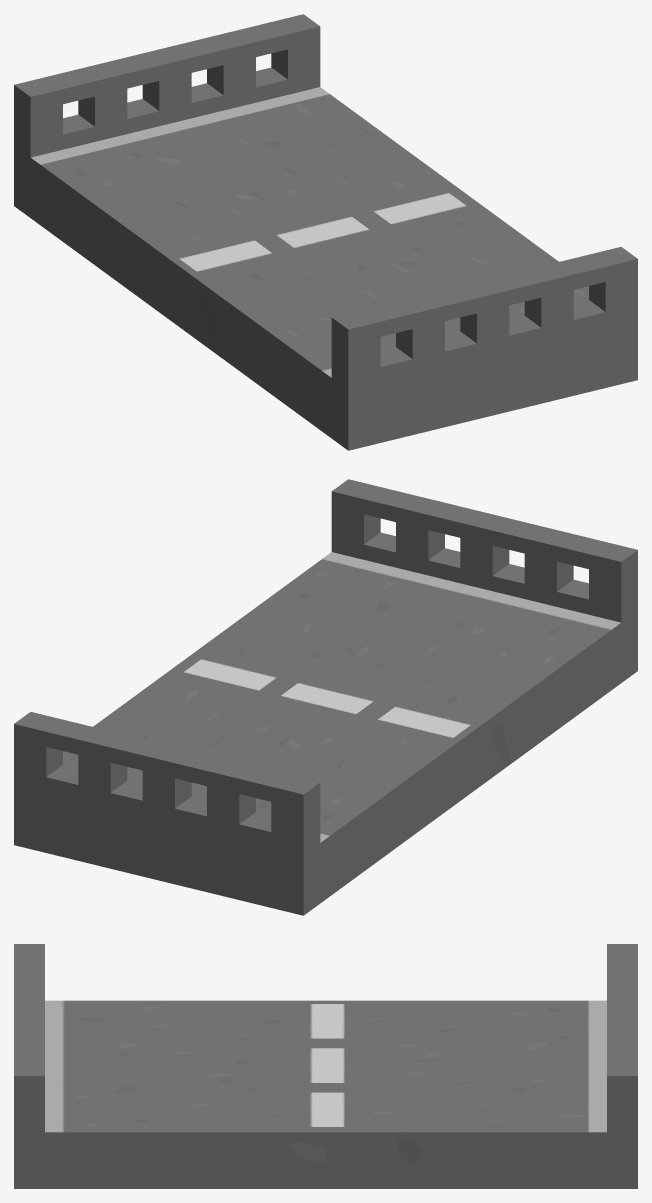
3 views of the same model, one above another, from view 1: azimuth 30°, elevation 25°; view 2: azimuth 150°, elevation 25°; view 3: azimuth 270°, elevation 25° (orthographic). The views are drawn at different scales.
Visible parts, largest first — view 1: road_seg; view 2: road_seg; view 3: road_seg.
Boxes of the visible parts, left/top/right/bottom form: road_seg: left=14, top=14, right=637, bottom=450; road_seg: left=14, top=479, right=637, bottom=915; road_seg: left=14, top=944, right=637, bottom=1188.
Bounding box in the file's own units: 2 × 0.8 × 4.
Materials: 1 (1 with a texture image).
